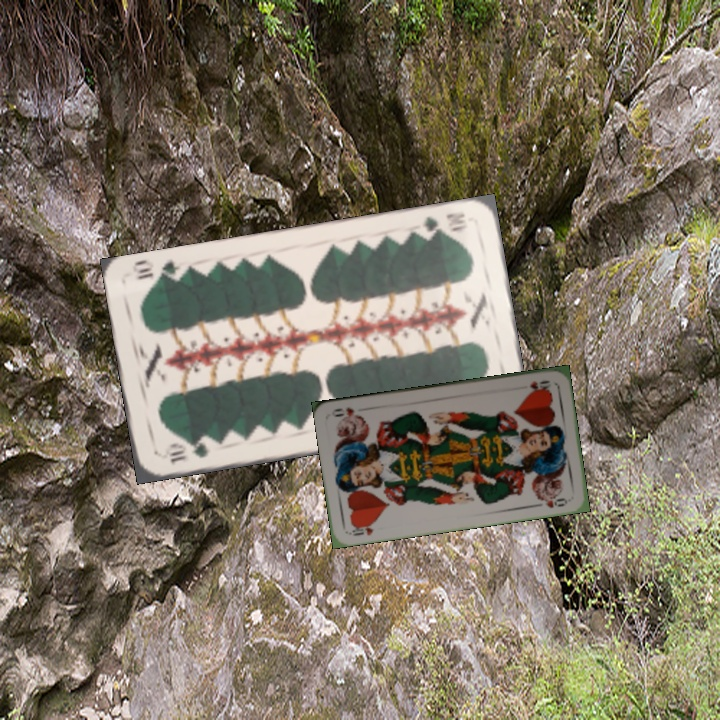G10: (415, 208, 470, 240), (158, 438, 212, 466)
HO: (345, 518, 376, 539), (526, 376, 553, 393)
